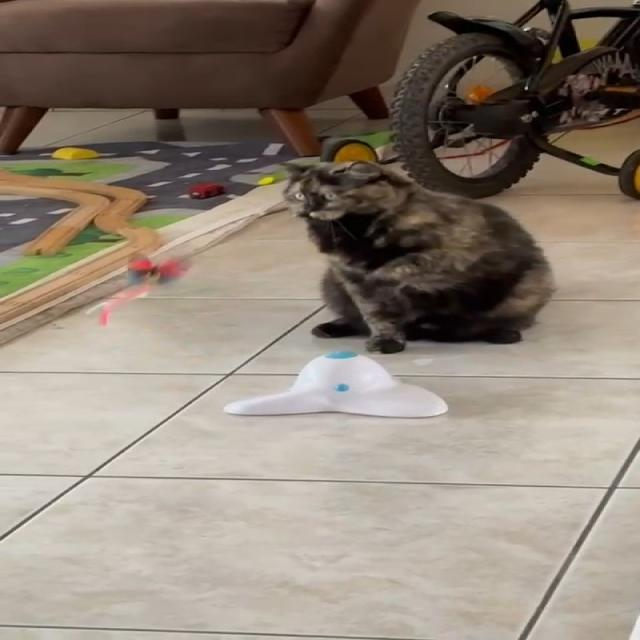authorized: (280, 159, 556, 354)
